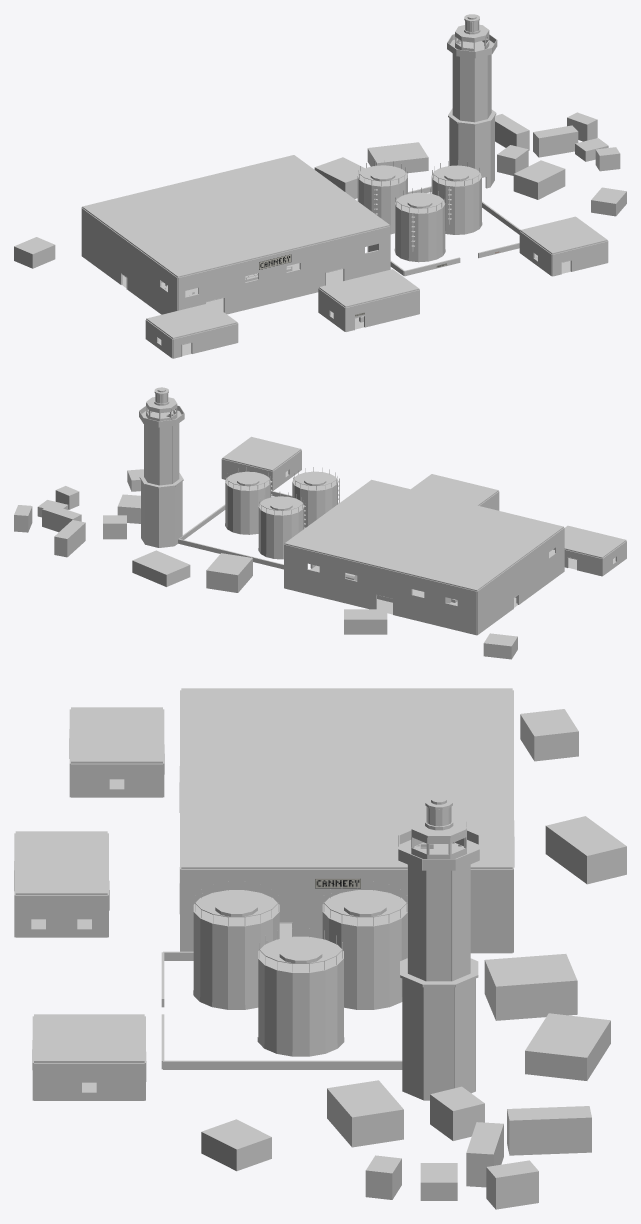
Rendered from north_point.glb.
3 renders of one model, top to bottom at view 1: azimuth 30°, elevation 25°; view 2: azimuth 150°, elevation 25°; view 3: azimuth 270°, elevation 25°, orthographic. The views are drawn at different scales.
Parts seen in each view (by area): view 1: north_point; view 2: north_point; view 3: north_point.
Part boxes in pixels (box(x1,y1,x2,y2)): north_point: box(14, 14, 626, 358); north_point: box(14, 387, 626, 659); north_point: box(14, 688, 626, 1209).
Size of the model in its own units: 122 by 34.9 by 66.61.
Materials: 3 (2 with a texture image).
